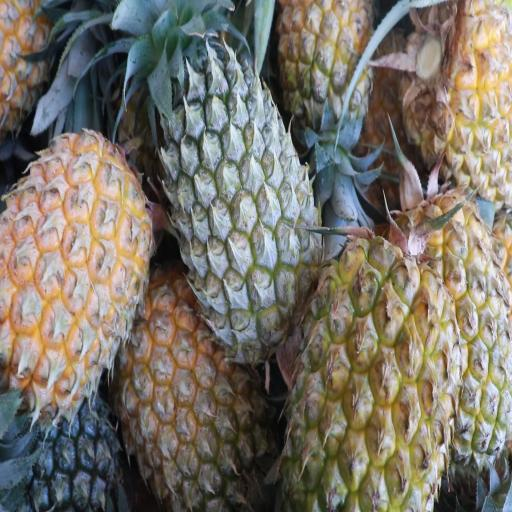------------------------------: (274, 2, 372, 188)
Pineapple - v8 v1: (280, 239, 449, 512), (0, 132, 149, 394), (113, 272, 272, 509), (387, 202, 509, 454), (396, 0, 512, 189)
